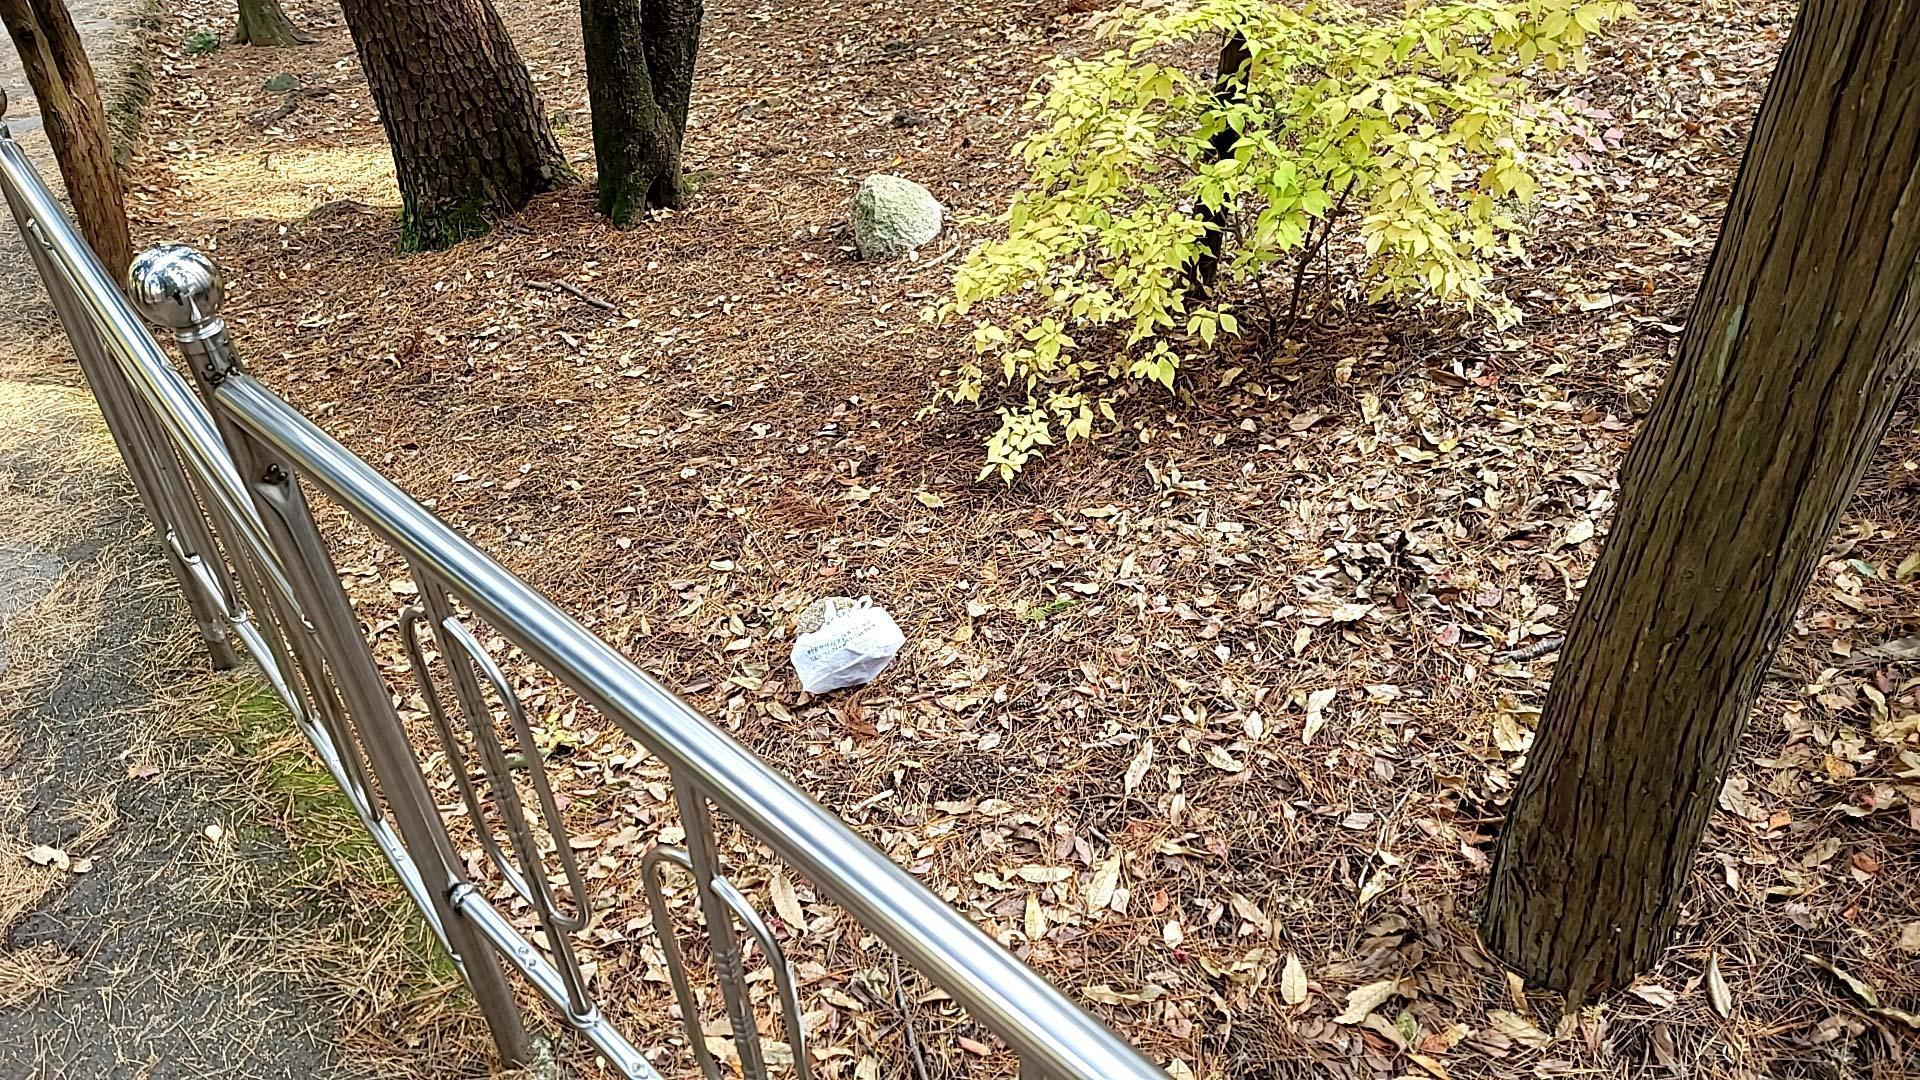white_bag: (781, 589, 903, 705)
